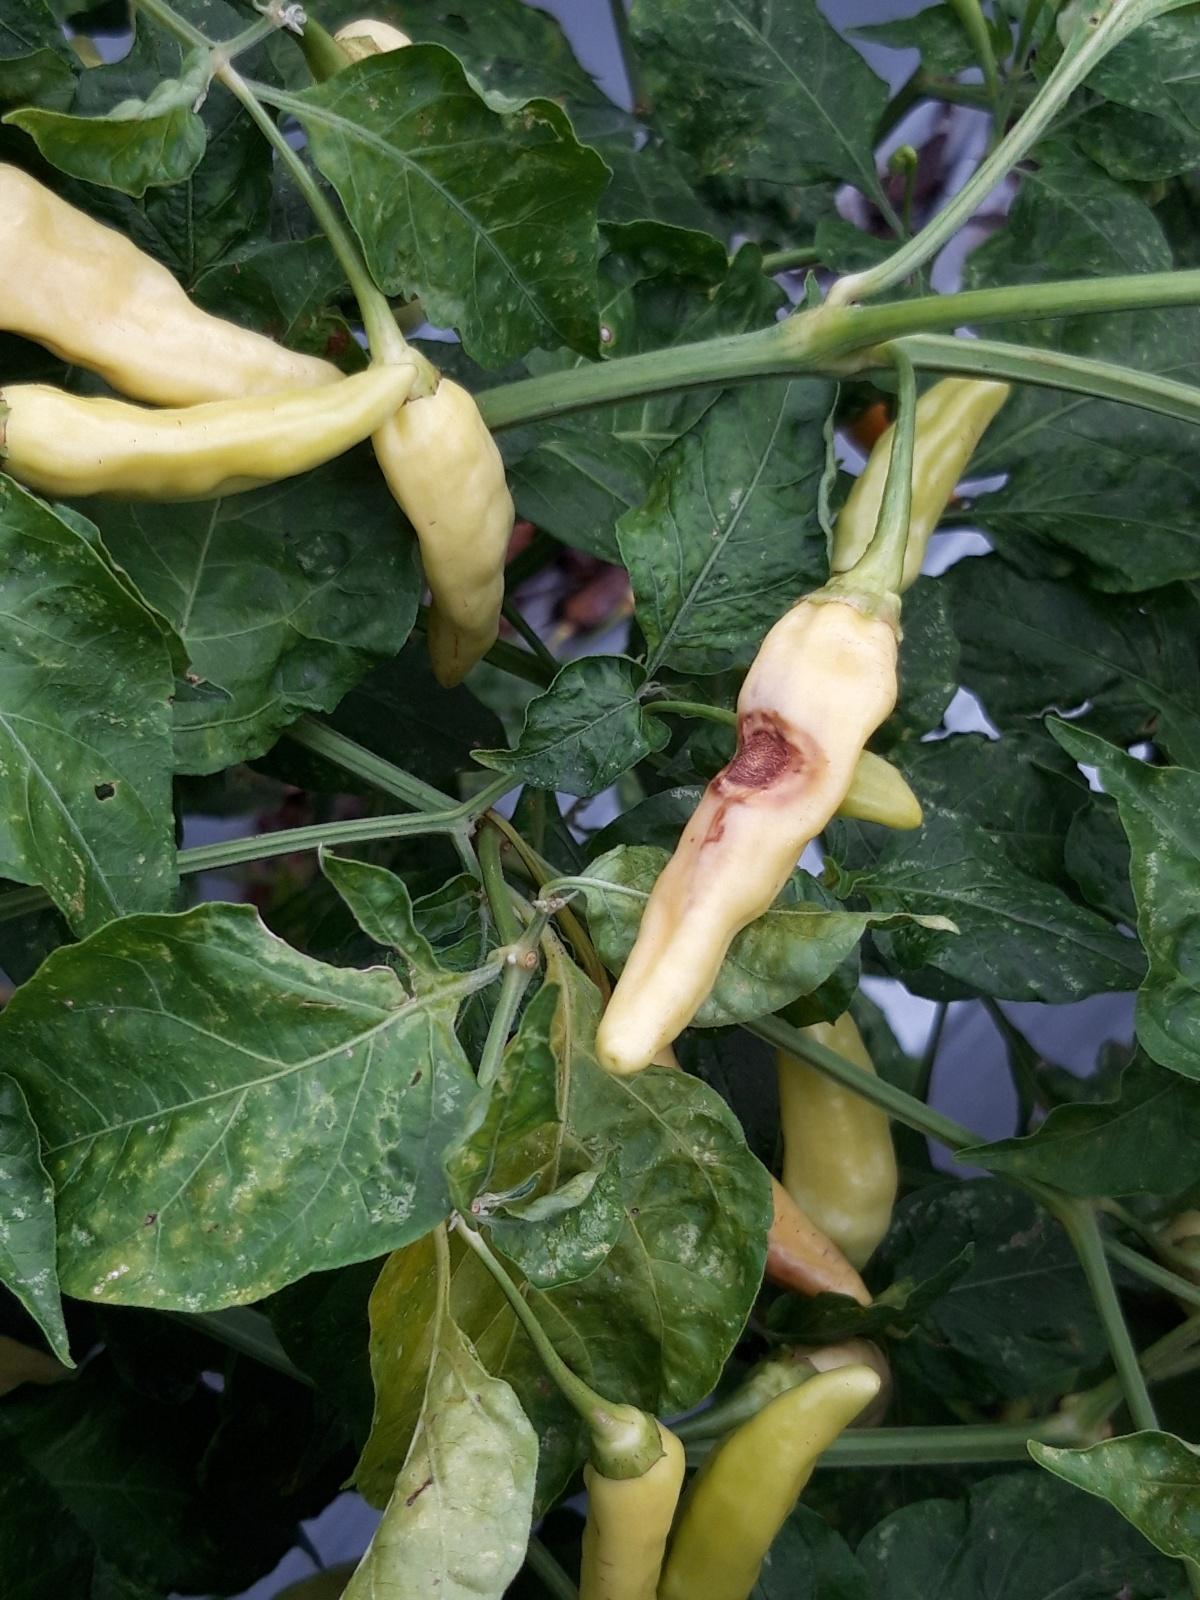cabai_normal: (0, 161, 350, 406), (0, 364, 418, 504), (663, 1366, 881, 1600), (367, 353, 512, 687), (579, 1403, 684, 1600)
lalat_buah: (592, 577, 904, 1075)
